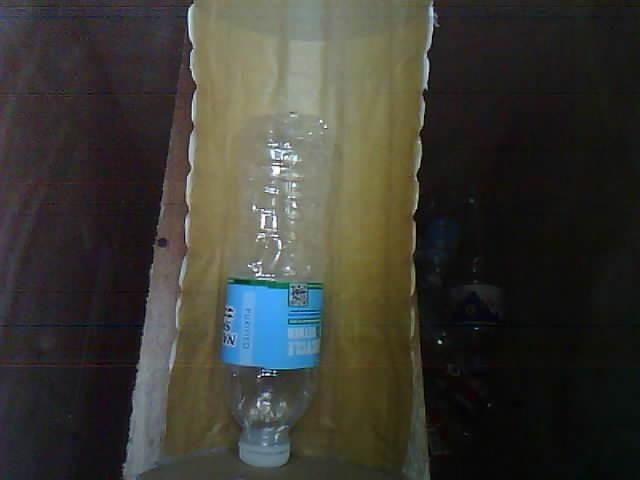small_bottle: (208, 103, 338, 480)
